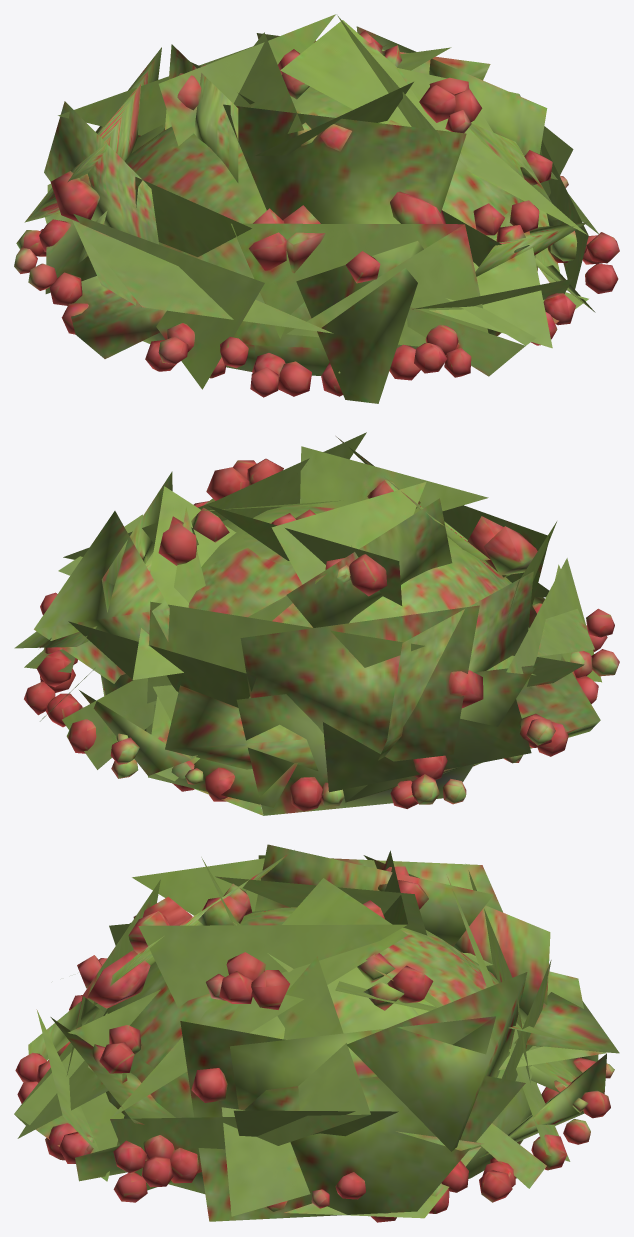
The model's file is crop_cranberry_3.glb.
The picture shows the model from 3 angles, top to bottom: view 1: azimuth 30°, elevation 25°; view 2: azimuth 150°, elevation 25°; view 3: azimuth 270°, elevation 25°; orthographic projection. The views are drawn at different scales.
Visible parts, largest first — view 1: crop_cranberry_3; view 2: crop_cranberry_3; view 3: crop_cranberry_3.
Part boxes in pixels (box(x1,y1,x2,y2)): crop_cranberry_3: box(14, 14, 619, 403); crop_cranberry_3: box(14, 432, 619, 815); crop_cranberry_3: box(14, 844, 619, 1222).
Size of the model in its own units: 0.92 by 0.3668 by 0.9049.
1 material, 1 textured.
